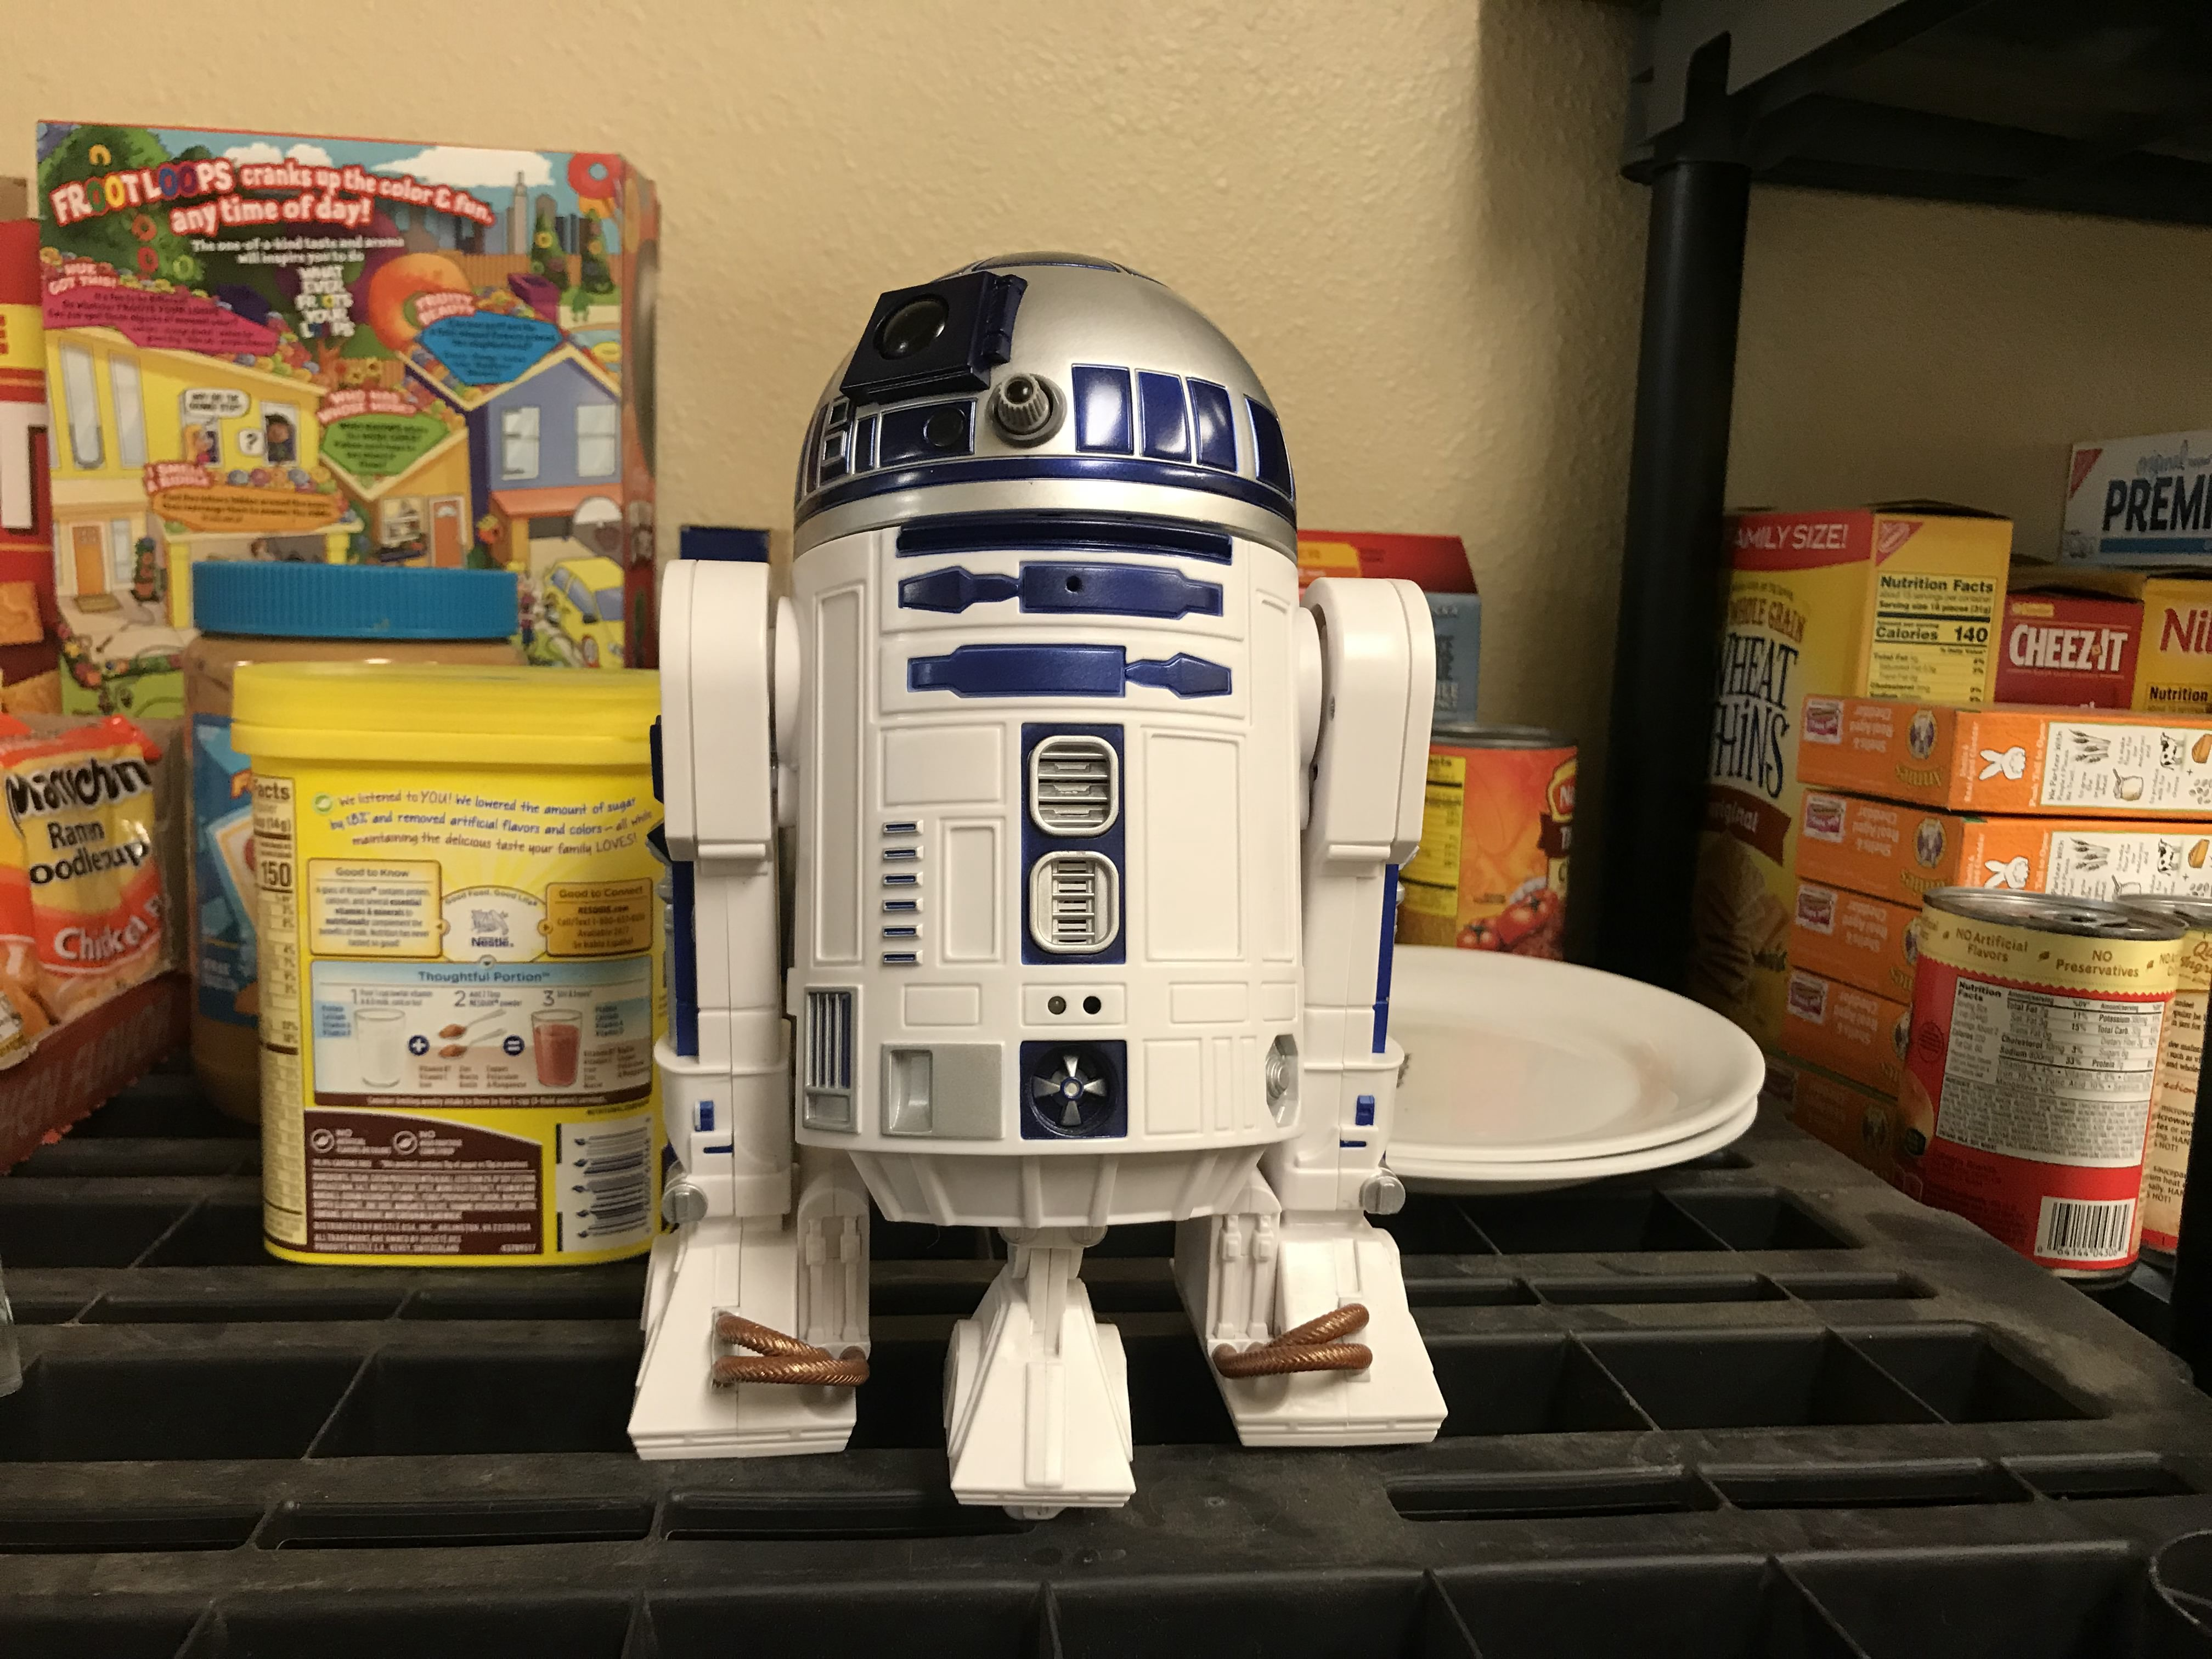r2d2: (632, 251, 1453, 1509)
